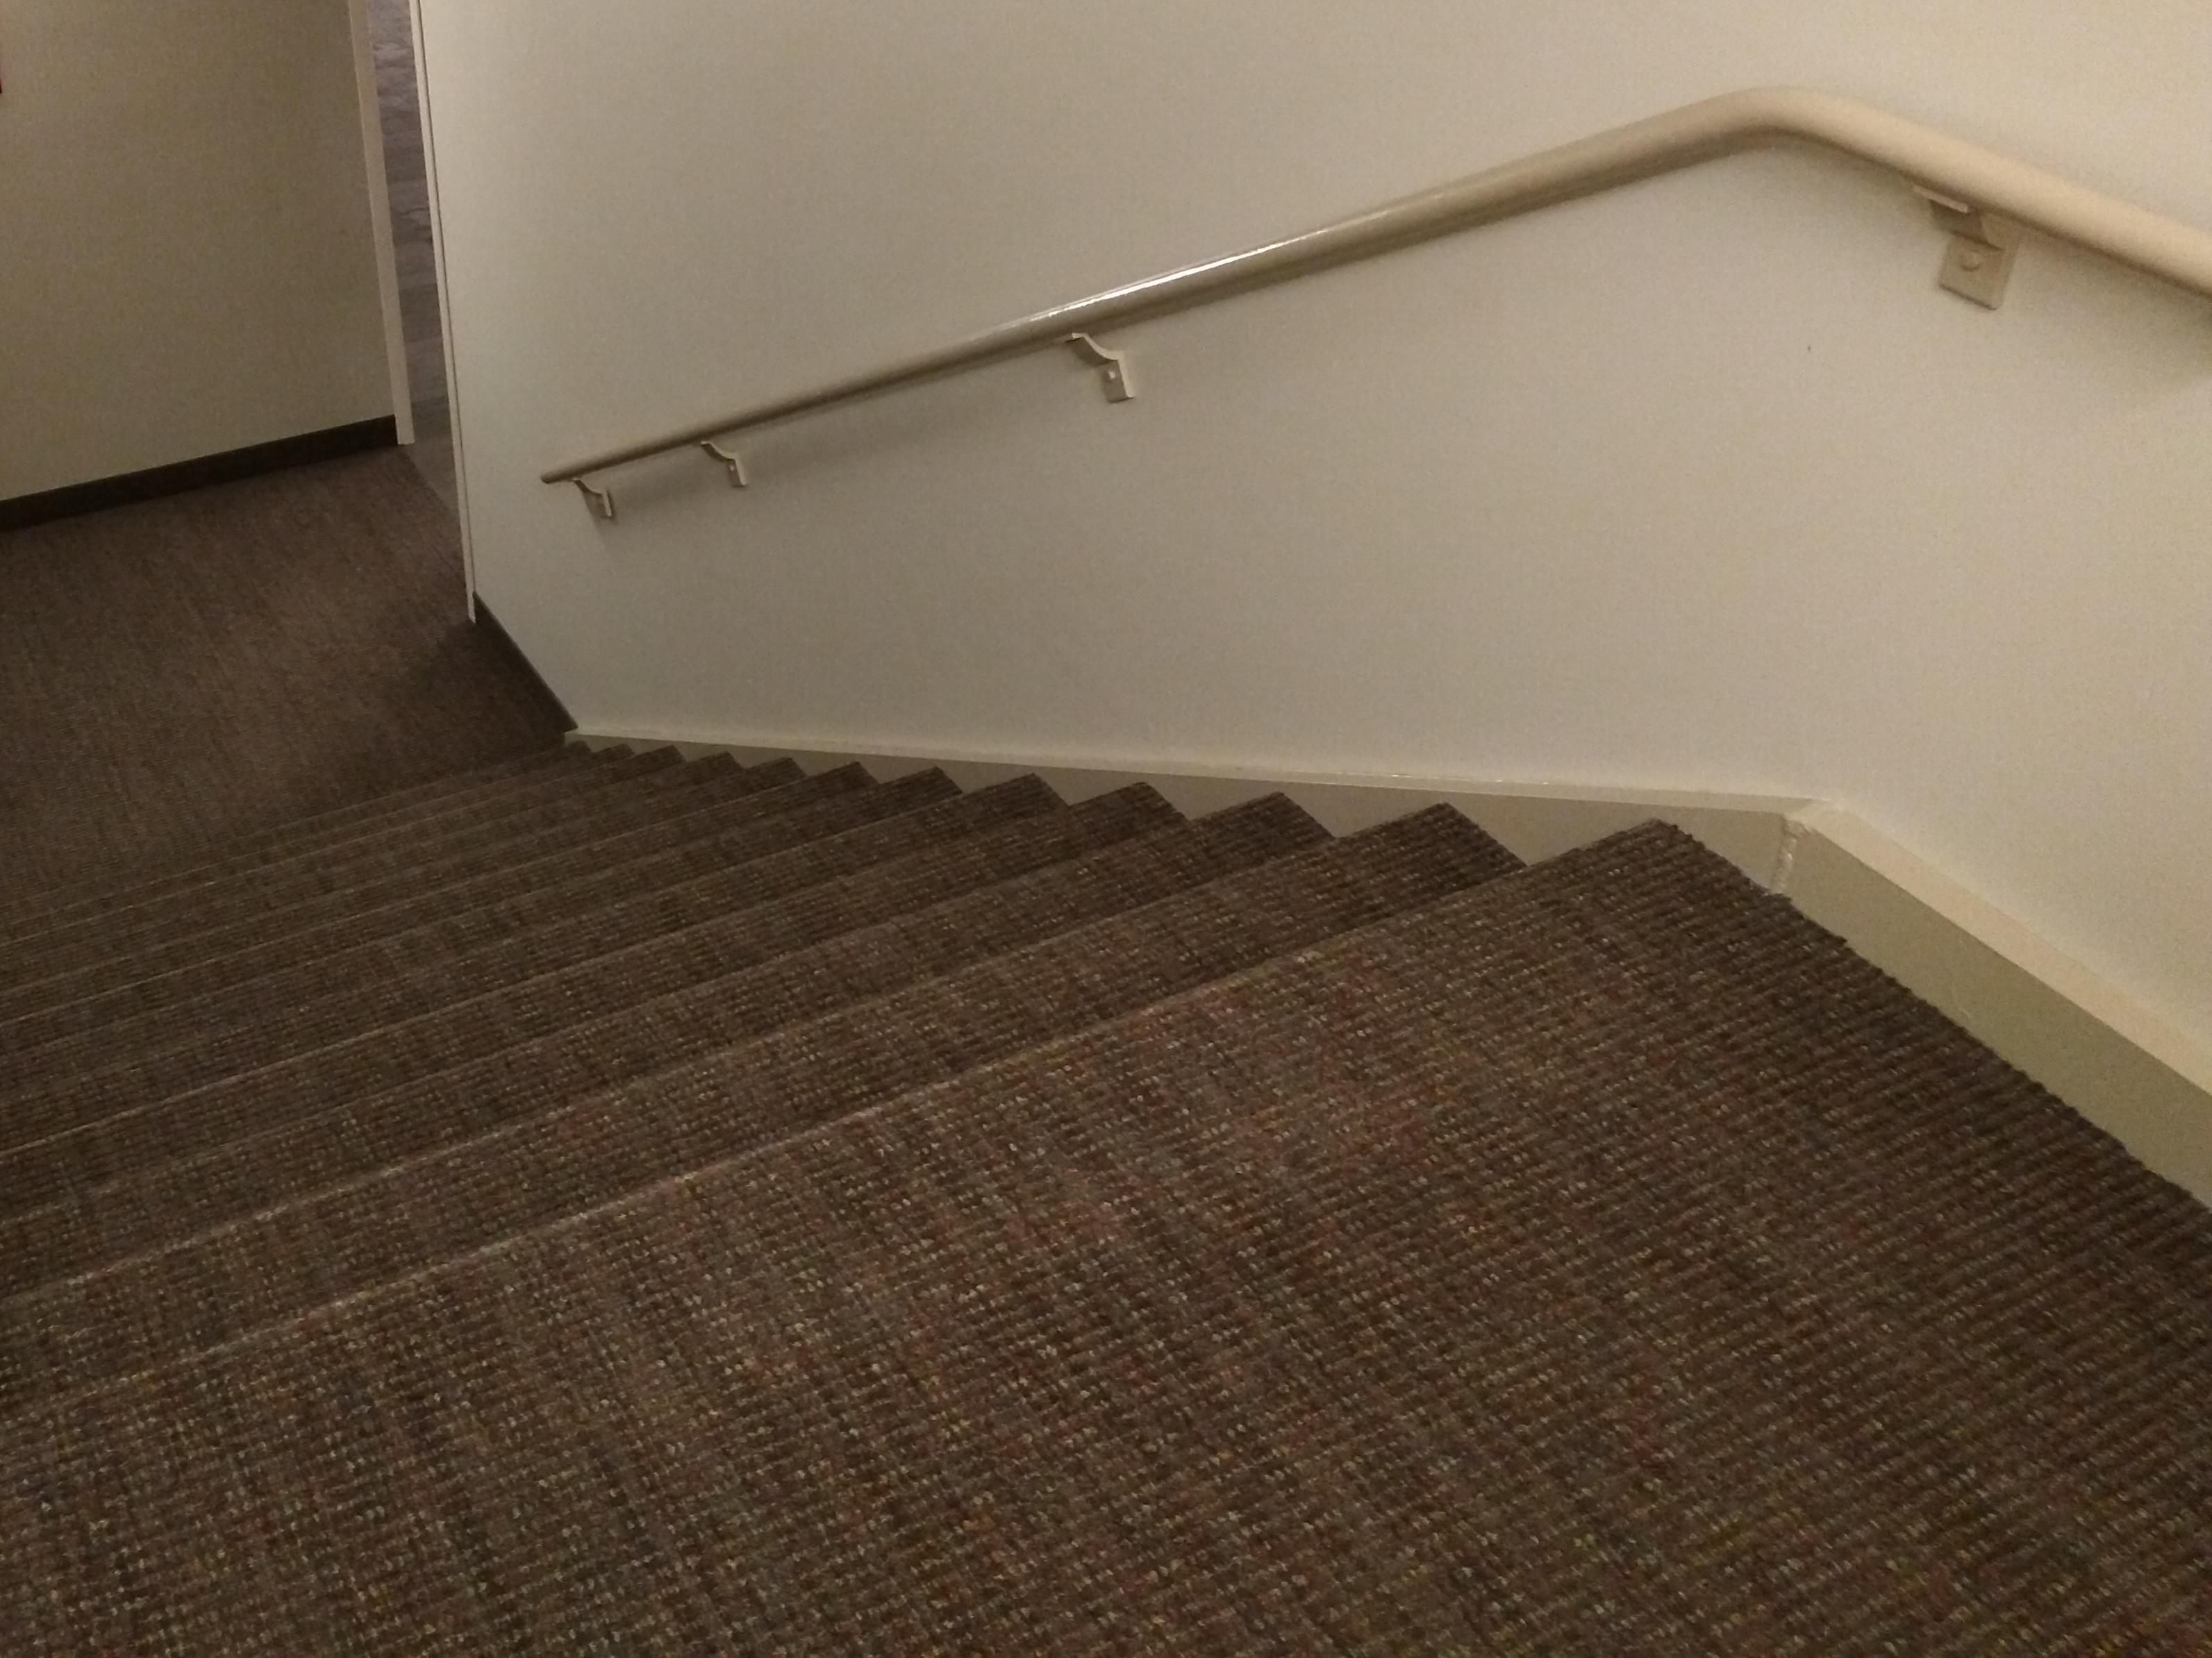stairs_down: (2, 719, 1705, 1557)
